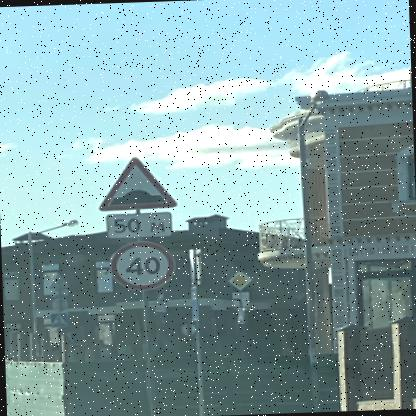crosswalk: (48, 312, 67, 326)
speedlimit: (106, 240, 172, 290)
